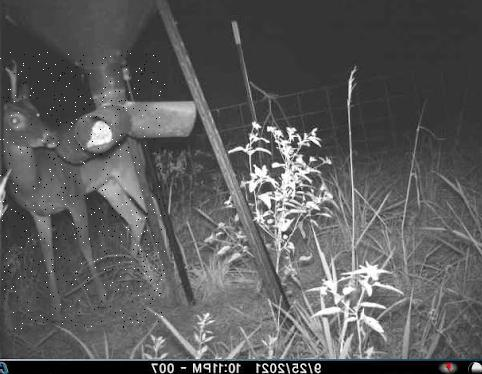Deer: (0, 51, 165, 329)
